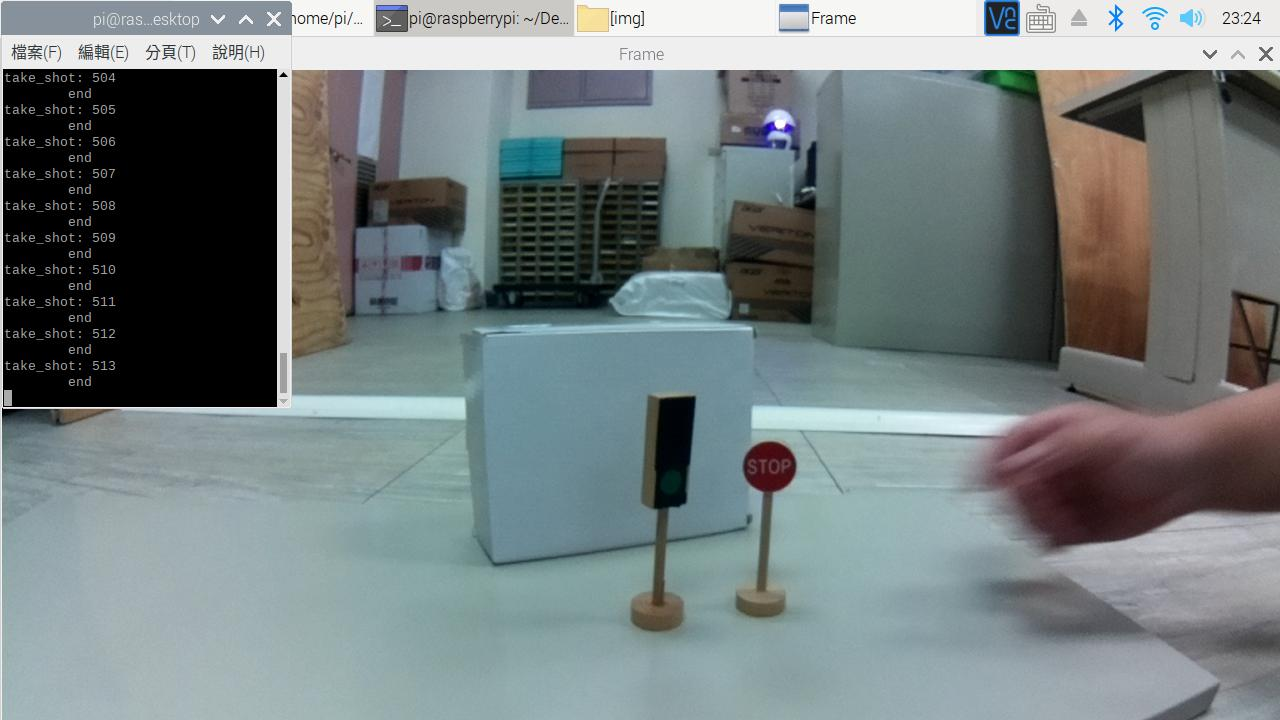Green: (635, 374, 707, 522)
Stop: (735, 433, 804, 503)
